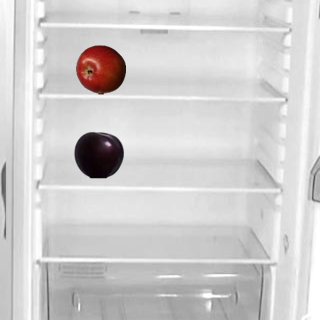Apple Braeburn: (75, 44, 125, 94)
Cherry Wax Black: (73, 129, 123, 179)
